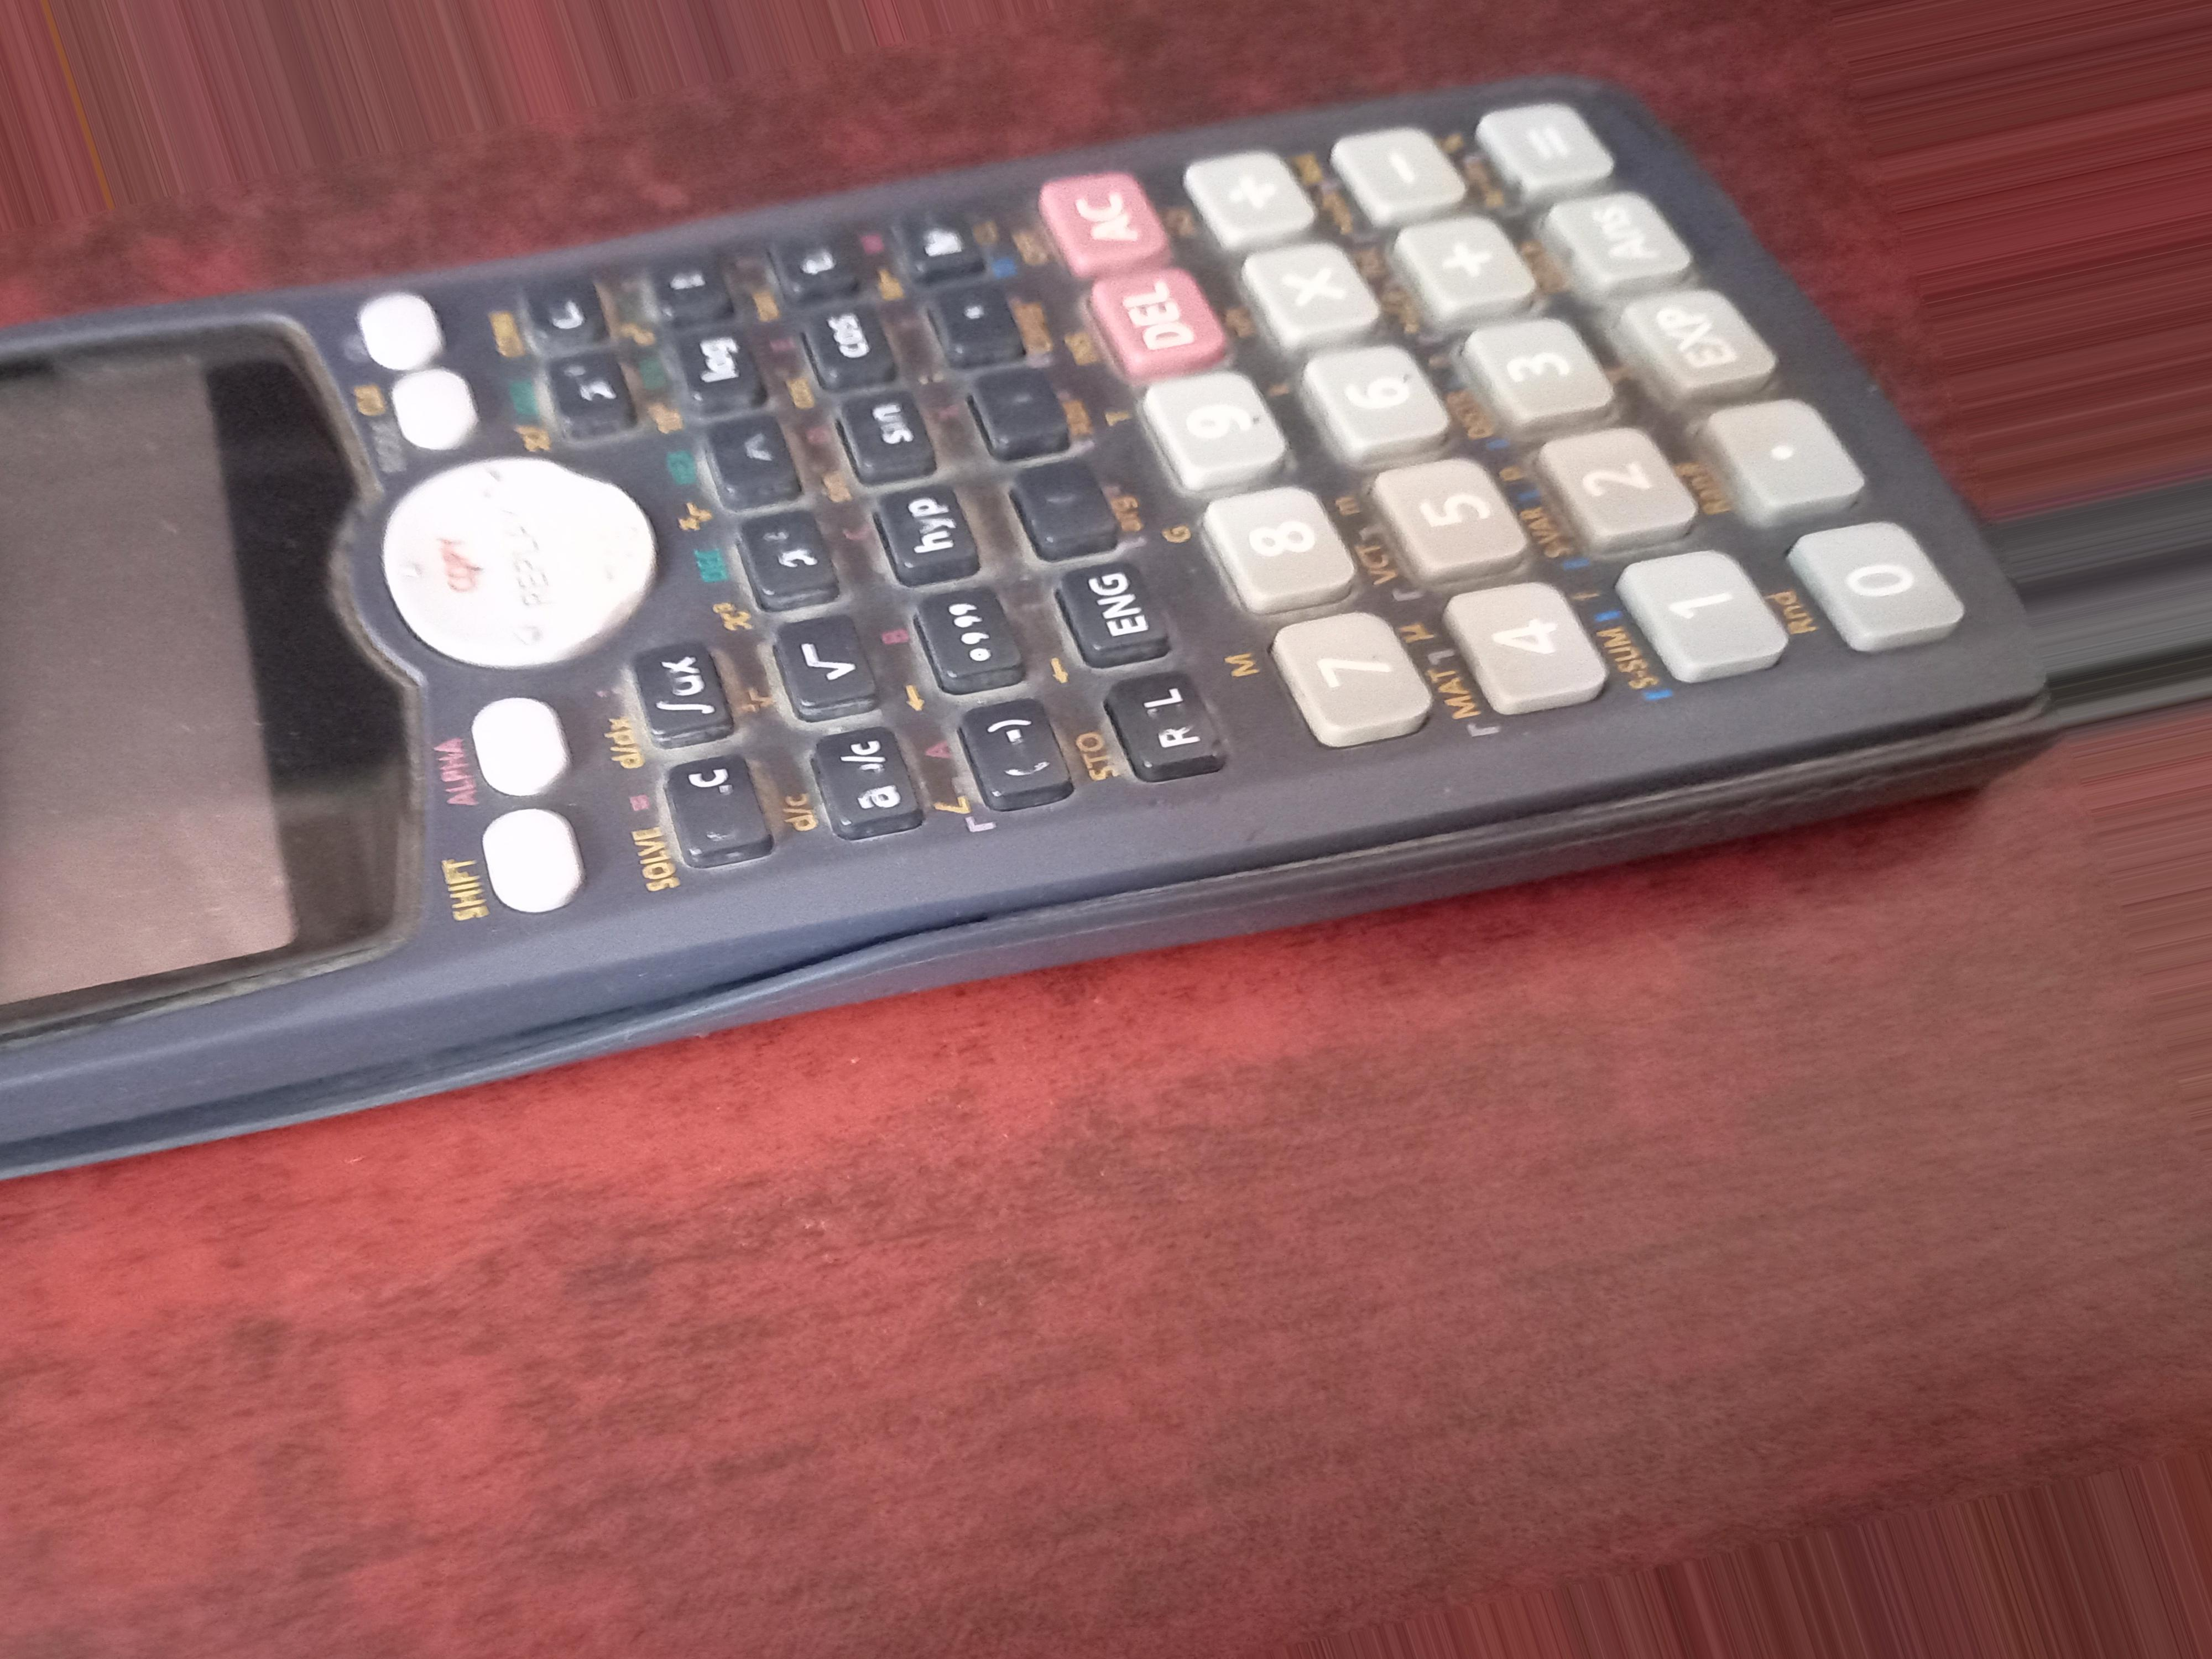calculator: (0, 308, 2008, 755)
